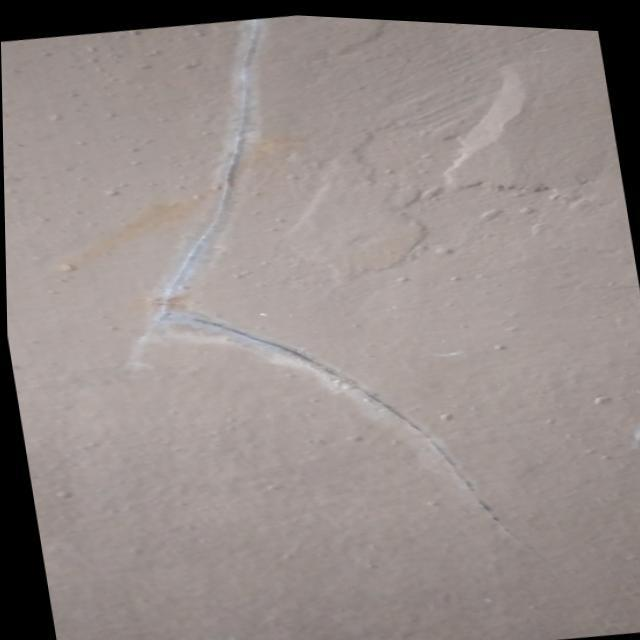Crack: (137, 39, 518, 538)
